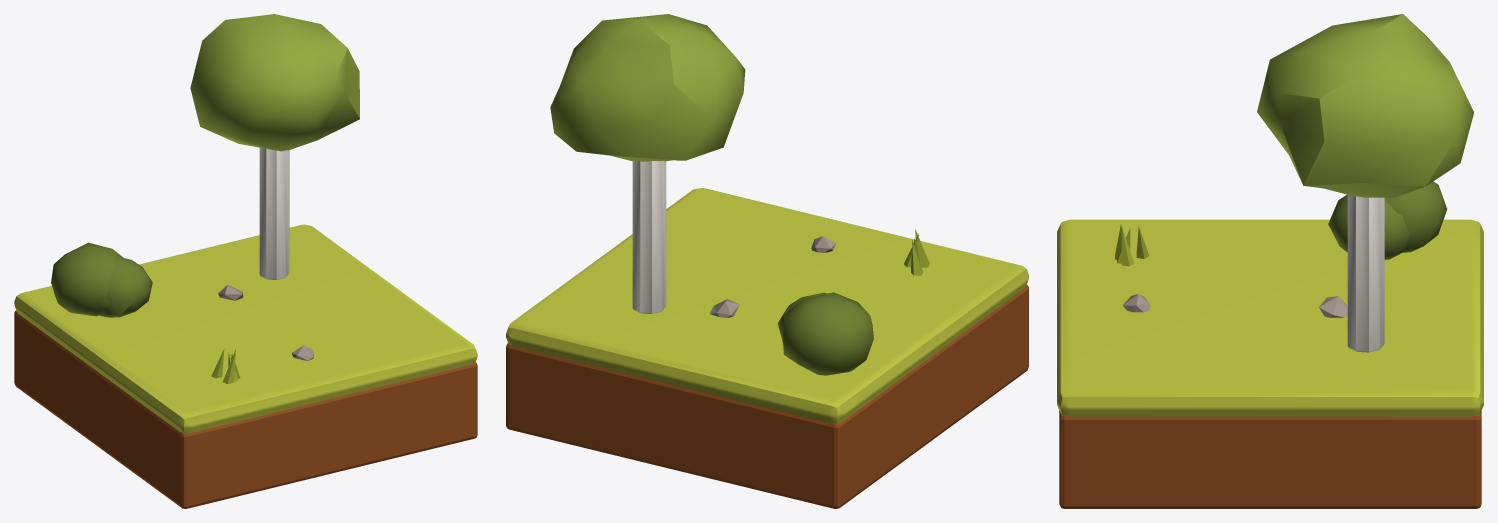
The model's file is tile_grove_birch.glb.
The picture shows the model from 3 angles, left to right: view 1: azimuth 30°, elevation 25°; view 2: azimuth 150°, elevation 25°; view 3: azimuth 270°, elevation 25°; orthographic projection. The views are drawn at different scales.
Parts seen in each view (by area): view 1: tile_grove_birch_cap, tile_grove_birch_body, gb_leaf, gb_trunk, tile_grove_birch_b_lobe1, tile_grove_birch_b_lobe0; view 2: tile_grove_birch_cap, tile_grove_birch_body, gb_leaf, tile_grove_birch_b_lobe1, gb_trunk; view 3: tile_grove_birch_cap, tile_grove_birch_body, gb_leaf, gb_trunk, tile_grove_birch_b_lobe1, tile_grove_birch_b_lobe0, tile_grove_birch_p_peb0.
Boxes of the visible parts, bbox=[...] form: tile_grove_birch_cap: bbox=[14, 224, 477, 433]; tile_grove_birch_body: bbox=[14, 310, 477, 508]; gb_leaf: bbox=[190, 14, 359, 151]; gb_trunk: bbox=[259, 147, 289, 279]; tile_grove_birch_b_lobe1: bbox=[51, 242, 123, 316]; tile_grove_birch_b_lobe0: bbox=[100, 257, 152, 317]; tile_grove_birch_cap: bbox=[506, 188, 1028, 423]; tile_grove_birch_body: bbox=[506, 285, 1028, 508]; gb_leaf: bbox=[550, 14, 745, 161]; tile_grove_birch_b_lobe1: bbox=[782, 292, 873, 375]; gb_trunk: bbox=[632, 160, 666, 313]; tile_grove_birch_cap: bbox=[1057, 219, 1483, 416]; tile_grove_birch_body: bbox=[1059, 410, 1481, 508]; gb_leaf: bbox=[1257, 14, 1473, 197]; gb_trunk: bbox=[1347, 195, 1384, 352]; tile_grove_birch_b_lobe1: bbox=[1384, 181, 1447, 252]; tile_grove_birch_b_lobe0: bbox=[1328, 194, 1410, 259]; tile_grove_birch_p_peb0: bbox=[1319, 296, 1347, 317].
Bounding box in the file's own units: 2.02 × 2.27 × 2.02.
